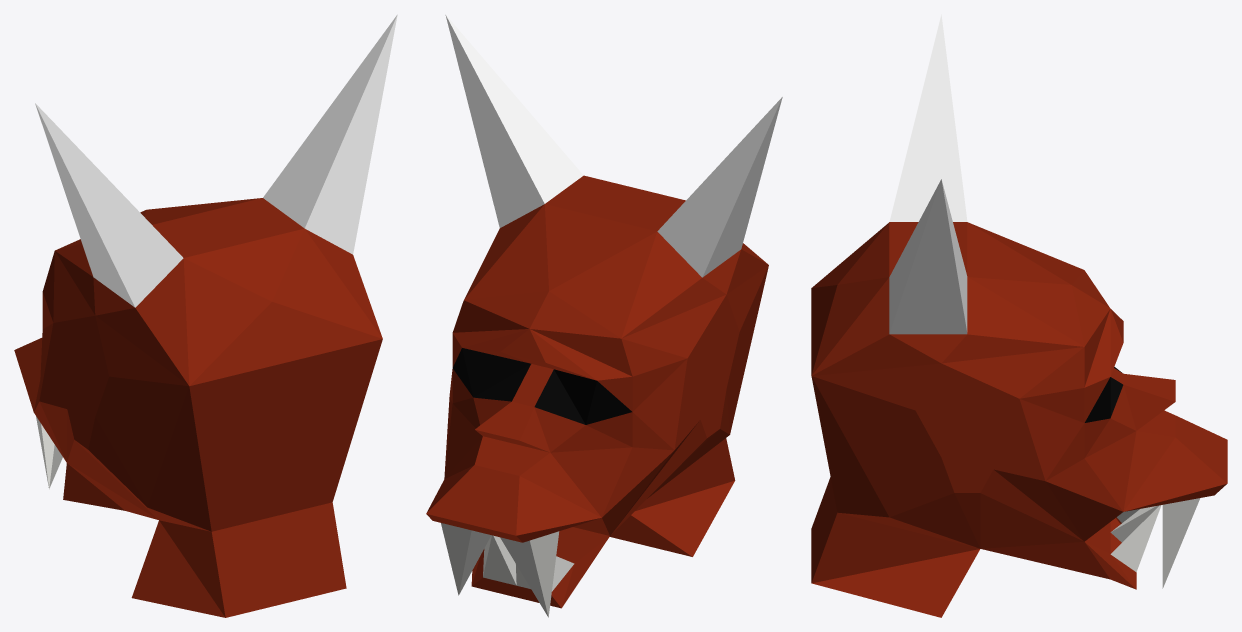
Rendered from itm_model0_red_halloween_mask.obj.
The picture shows the model from 3 angles, left to right: view 1: azimuth 30°, elevation 25°; view 2: azimuth 150°, elevation 25°; view 3: azimuth 270°, elevation 25°; orthographic projection. The views are drawn at different scales.
Size of the model in its own units: 0.2344 by 0.3203 by 0.25.
